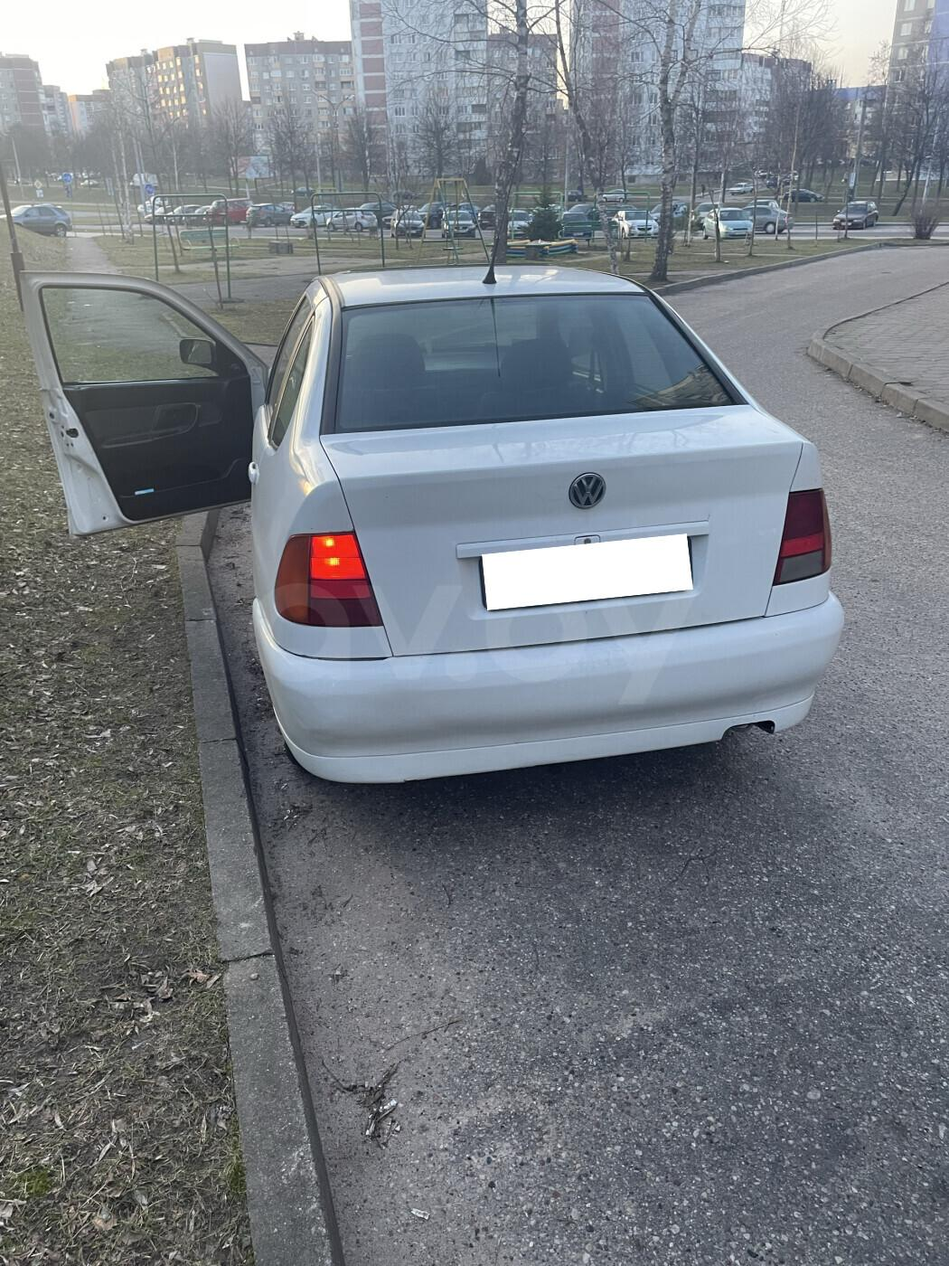Polo_1994-2002: (0, 250, 850, 821)
